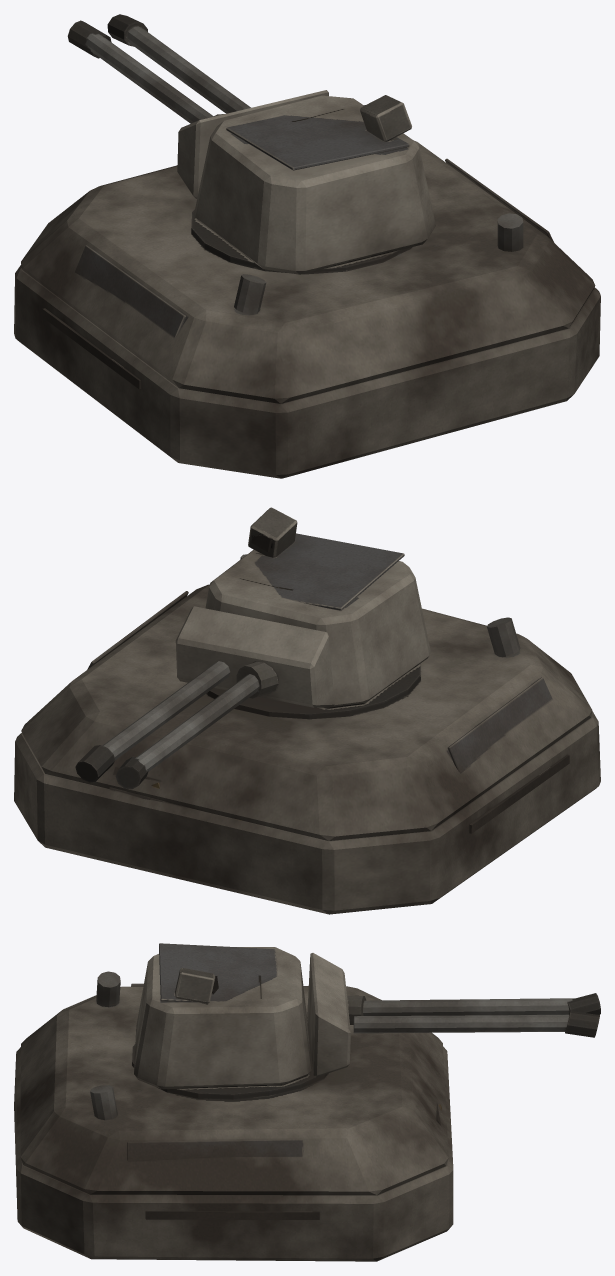
File: ord_moat_wreck.fbx
The picture shows the model from 3 angles, top to bottom: view 1: azimuth 30°, elevation 25°; view 2: azimuth 150°, elevation 25°; view 3: azimuth 270°, elevation 25°; orthographic projection. The views are drawn at different scales.
Visible parts, largest first — view 1: base_bar, turret_bar; view 2: base_bar, turret_bar; view 3: base_bar, turret_bar.
Part boxes in pixels (x1,y1,x2,y2): base_bar: [14, 140, 600, 478]; turret_bar: [67, 14, 435, 274]; base_bar: [14, 554, 600, 914]; turret_bar: [75, 507, 430, 789]; base_bar: [14, 971, 453, 1261]; turret_bar: [134, 943, 600, 1089].
Size of the model in its own units: 751 by 533 by 996.
2 materials, 2 textured.
